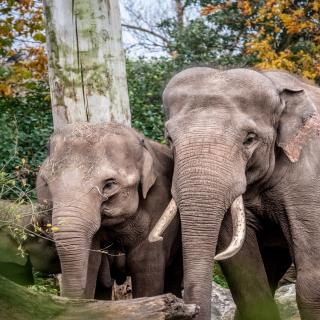Elephant: (148, 61, 320, 320), (35, 116, 180, 320)
